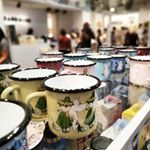cups: (24, 72, 100, 141), (1, 66, 58, 123), (125, 54, 150, 89)
